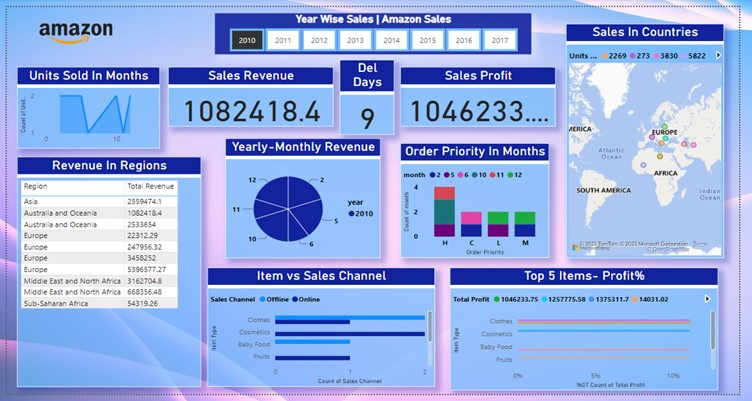

Layout of this report page (visuals, bound fields, positions):
{"tool":"powerbi","page":{"name":"Report 1","canvas":[1280,720],"ordinal":0},"visuals":[{"type":"slicer","title":"Year Wise Sales | Amazon Sales","fields":{"Values":["Amazon Sales data.year"]},"box":[363.1,9.8,555,78.2],"z":0},{"type":"image","box":[51.7,0,136.7,98.3],"z":1000},{"type":"card","title":"Sales Profit","fields":{"Values":["Amazon Sales data.Total Profit"]},"box":[688.2,112.5,271.4,110],"z":2000},{"type":"card","title":"Sales Revenue","fields":{"Values":["Amazon Sales data.Total Revenue"]},"box":[282.4,112.5,288.5,110],"z":3000},{"type":"card","title":"Total Revenue","fields":{"Values":["Amazon Sales data.Total Revenue"]},"box":[1665,98.8,330,122.5],"z":4000},{"type":"stackedAreaChart","title":"Units Sold In Months","fields":{"Y":["Amazon Sales data.Units Sold"],"Category":["Amazon Sales data.month"]},"box":[18.3,112.5,249.4,151.6],"z":5000},{"type":"card","title":"Del Days","fields":{"Values":["Amazon Sales data.ship date"]},"box":[581.9,97.8,95.3,139.4],"z":6000},{"type":"pieChart","title":"Yearly-Monthly Revenue","fields":{"Category":["Amazon Sales data.year"],"Y":["Amazon Sales data.Units Sold"],"Series":["Amazon Sales data.month"]},"box":[381.4,244.5,271.4,222.5],"z":7000},{"type":"tableEx","title":"Revenue In Regions","fields":{"Values":["Amazon Sales data.Region","Amazon Sales data.Total Revenue"]},"box":[18.3,278.7,321.5,427.8],"z":8000},{"type":"columnChart","title":"Order Priority In Months","fields":{"Category":["Amazon Sales data.Order Priority"],"Y":["Amazon Sales data.month"],"Series":["Amazon Sales data.month"]},"box":[688.2,254.3,260.4,212.7],"z":9000},{"type":"clusteredBarChart","title":"Top 5 Items- Profit% ","fields":{"Category":["Amazon Sales data.Item Type"],"Y":["Amazon Sales data.Total Profit"],"Series":["Amazon Sales data.Total Profit"]},"box":[774.6,485.1,468.7,228.4],"z":10000},{"type":"clusteredBarChart","title":"Item vs Sales Channel","fields":{"Category":["Amazon Sales data.Item Type"],"Series":["Amazon Sales data.Sales Channel"],"Y":["Amazon Sales data.Sales Channel"]},"box":[350.8,485.3,397.3,221.3],"z":11000},{"type":"map","title":"Sales In Countries","fields":{"Category":["Amazon Sales data.Country"],"Series":["Amazon Sales data.Units Sold"]},"box":[977.1,31.4,275.7,435.7],"z":12000}]}

Visuals, with their boxes in screenshot pixels (x1, y1, x2, y2):
"Year Wise Sales | Amazon Sales" slicer: box=[215, 6, 531, 50]
image: box=[37, 0, 115, 56]
"Sales Profit" card: box=[400, 64, 555, 127]
"Sales Revenue" card: box=[169, 64, 333, 127]
"Units Sold In Months" stackedAreaChart: box=[18, 64, 160, 151]
"Del Days" card: box=[340, 56, 394, 135]
"Yearly-Monthly Revenue" pieChart: box=[225, 139, 380, 266]
"Revenue In Regions" tableEx: box=[18, 159, 202, 400]
"Order Priority In Months" columnChart: box=[400, 145, 549, 266]
"Top 5 Items- Profit% " clusteredBarChart: box=[449, 277, 717, 400]
"Item vs Sales Channel" clusteredBarChart: box=[208, 277, 434, 400]
"Sales In Countries" map: box=[565, 18, 722, 266]
